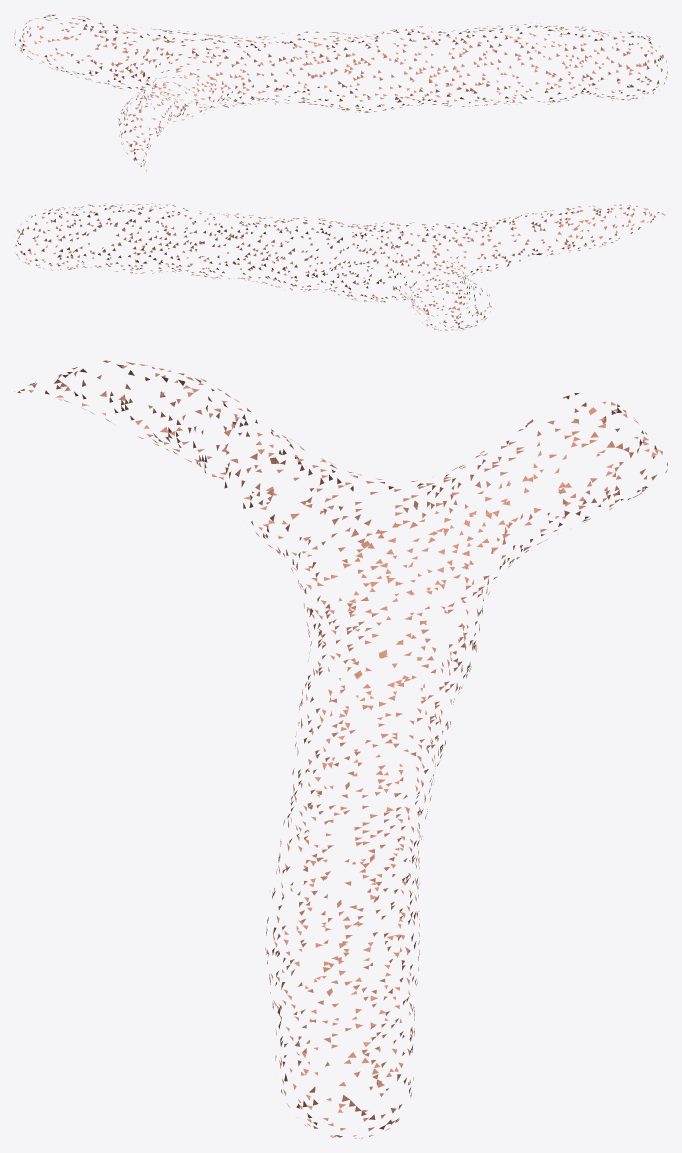
The model's file is morph_003.glb.
The picture shows the model from 3 angles, top to bottom: view 1: azimuth 30°, elevation 25°; view 2: azimuth 150°, elevation 25°; view 3: azimuth 270°, elevation 25°; orthographic projection. The views are drawn at different scales.
Size of the model in its own units: 117 by 29.13 by 60.56.
